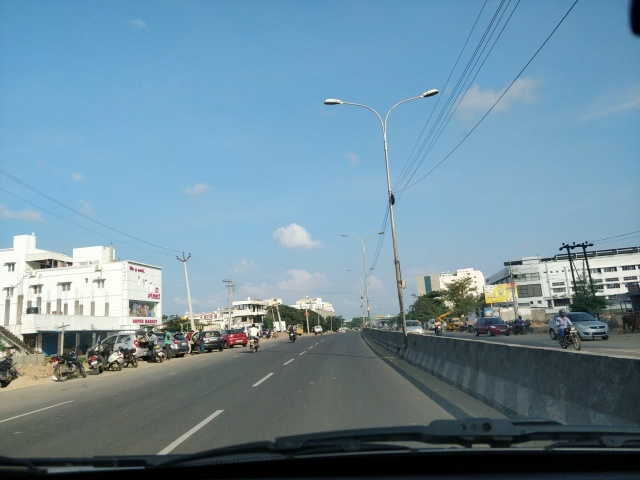car: (549, 306, 612, 340), (95, 337, 158, 359), (221, 324, 255, 353), (191, 328, 227, 354), (475, 318, 517, 339), (400, 318, 426, 342), (314, 326, 328, 336)
motorbike: (45, 350, 90, 386), (553, 311, 583, 354), (85, 344, 105, 384), (245, 319, 261, 356), (120, 346, 140, 367), (285, 323, 301, 346), (513, 315, 527, 336), (433, 321, 445, 340)
